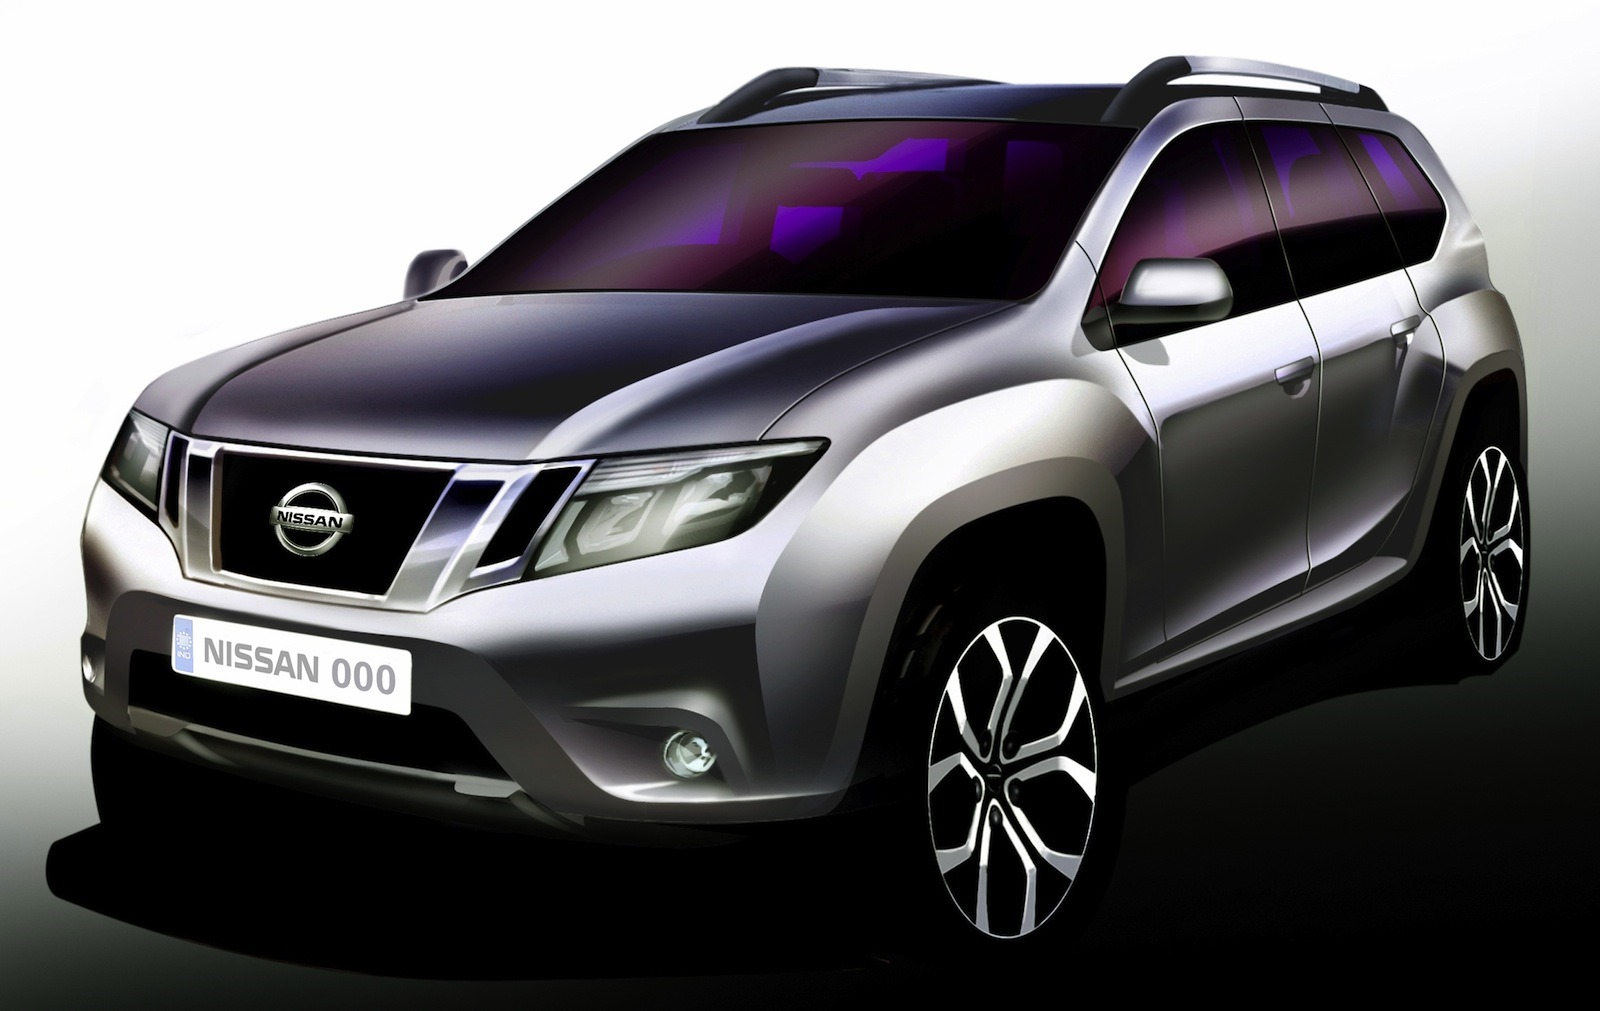number_plate: (160, 599, 426, 733)
